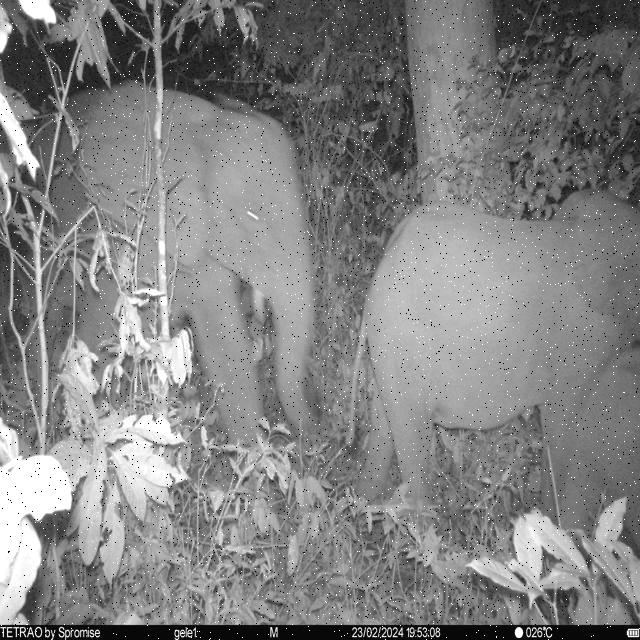calf: (342, 186, 640, 516), (544, 345, 640, 550)
ear: (80, 81, 208, 268), (572, 188, 640, 342)
elephant: (37, 81, 320, 453)
tusk: (252, 288, 268, 328)
